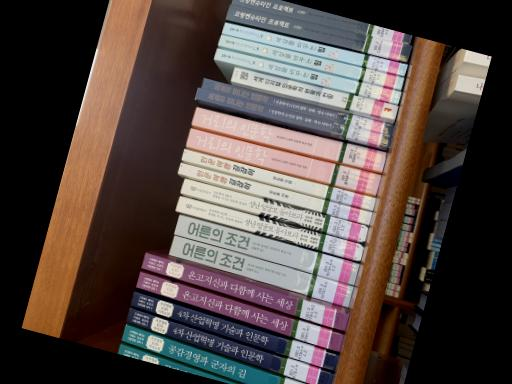book-spine: (135, 269, 344, 351), (130, 290, 339, 370), (140, 251, 348, 331), (125, 306, 335, 384), (184, 126, 381, 195), (174, 213, 360, 285), (168, 235, 353, 307), (190, 105, 387, 172), (177, 160, 372, 225), (175, 194, 364, 261), (180, 177, 369, 243), (180, 147, 377, 210), (195, 87, 393, 148), (121, 323, 307, 384), (200, 77, 395, 135), (213, 45, 402, 104), (226, 3, 412, 62), (218, 32, 405, 90), (222, 20, 408, 75), (230, 65, 399, 120), (231, 0, 412, 44), (117, 342, 242, 384)
